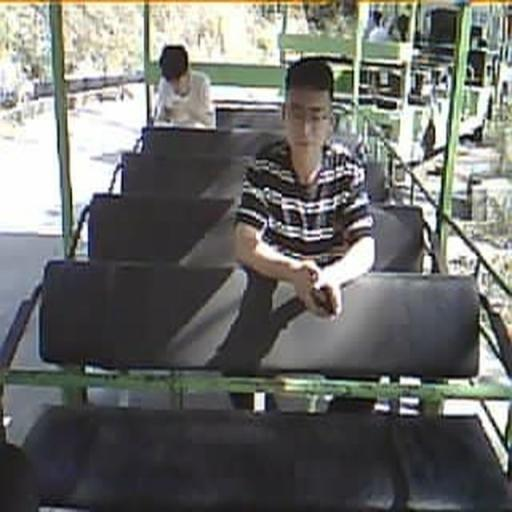persona: (210, 56, 376, 407), (152, 43, 217, 129)
